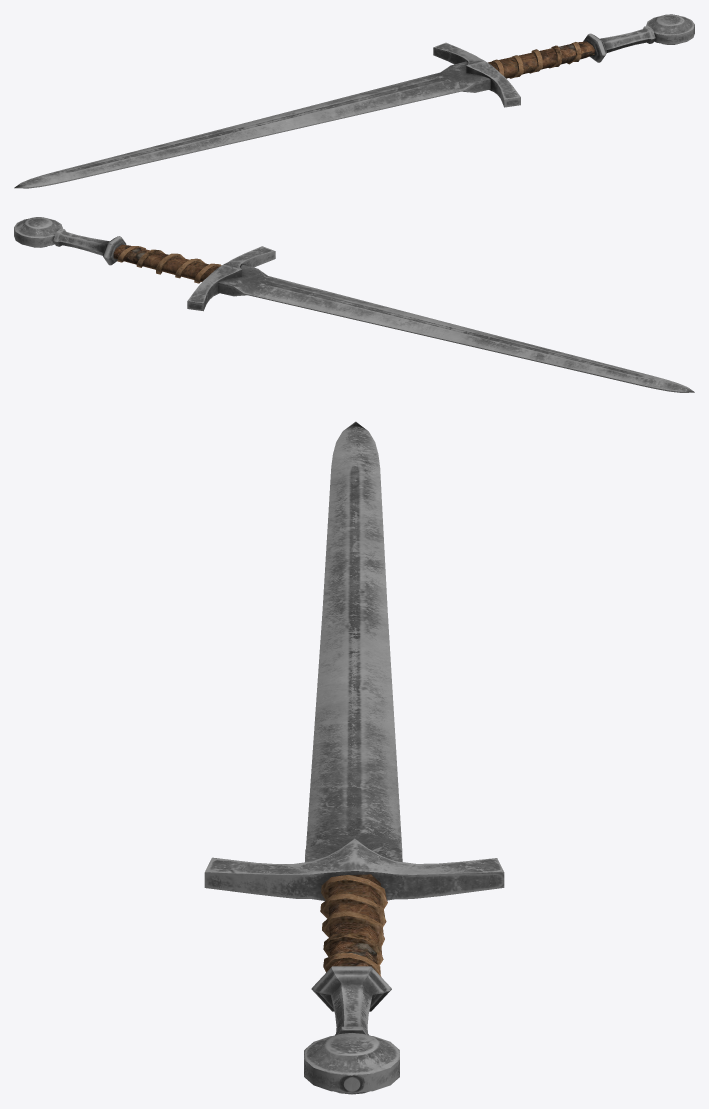
The model's file is sword.glb.
The picture shows the model from 3 angles, top to bottom: view 1: azimuth 30°, elevation 25°; view 2: azimuth 150°, elevation 25°; view 3: azimuth 270°, elevation 25°; orthographic projection. The views are drawn at different scales.
Visible parts, largest first — view 1: defaultMaterial; view 2: defaultMaterial; view 3: defaultMaterial.
Boxes of the visible parts, x1=… form: defaultMaterial: x1=14, y1=14, x2=694, y2=188; defaultMaterial: x1=14, y1=217, x2=694, y2=392; defaultMaterial: x1=204, y1=421, x2=504, y2=1094.
Size of the model in its own units: 65534 by 2312 by 12552.
Materials: 1 (1 with a texture image).
